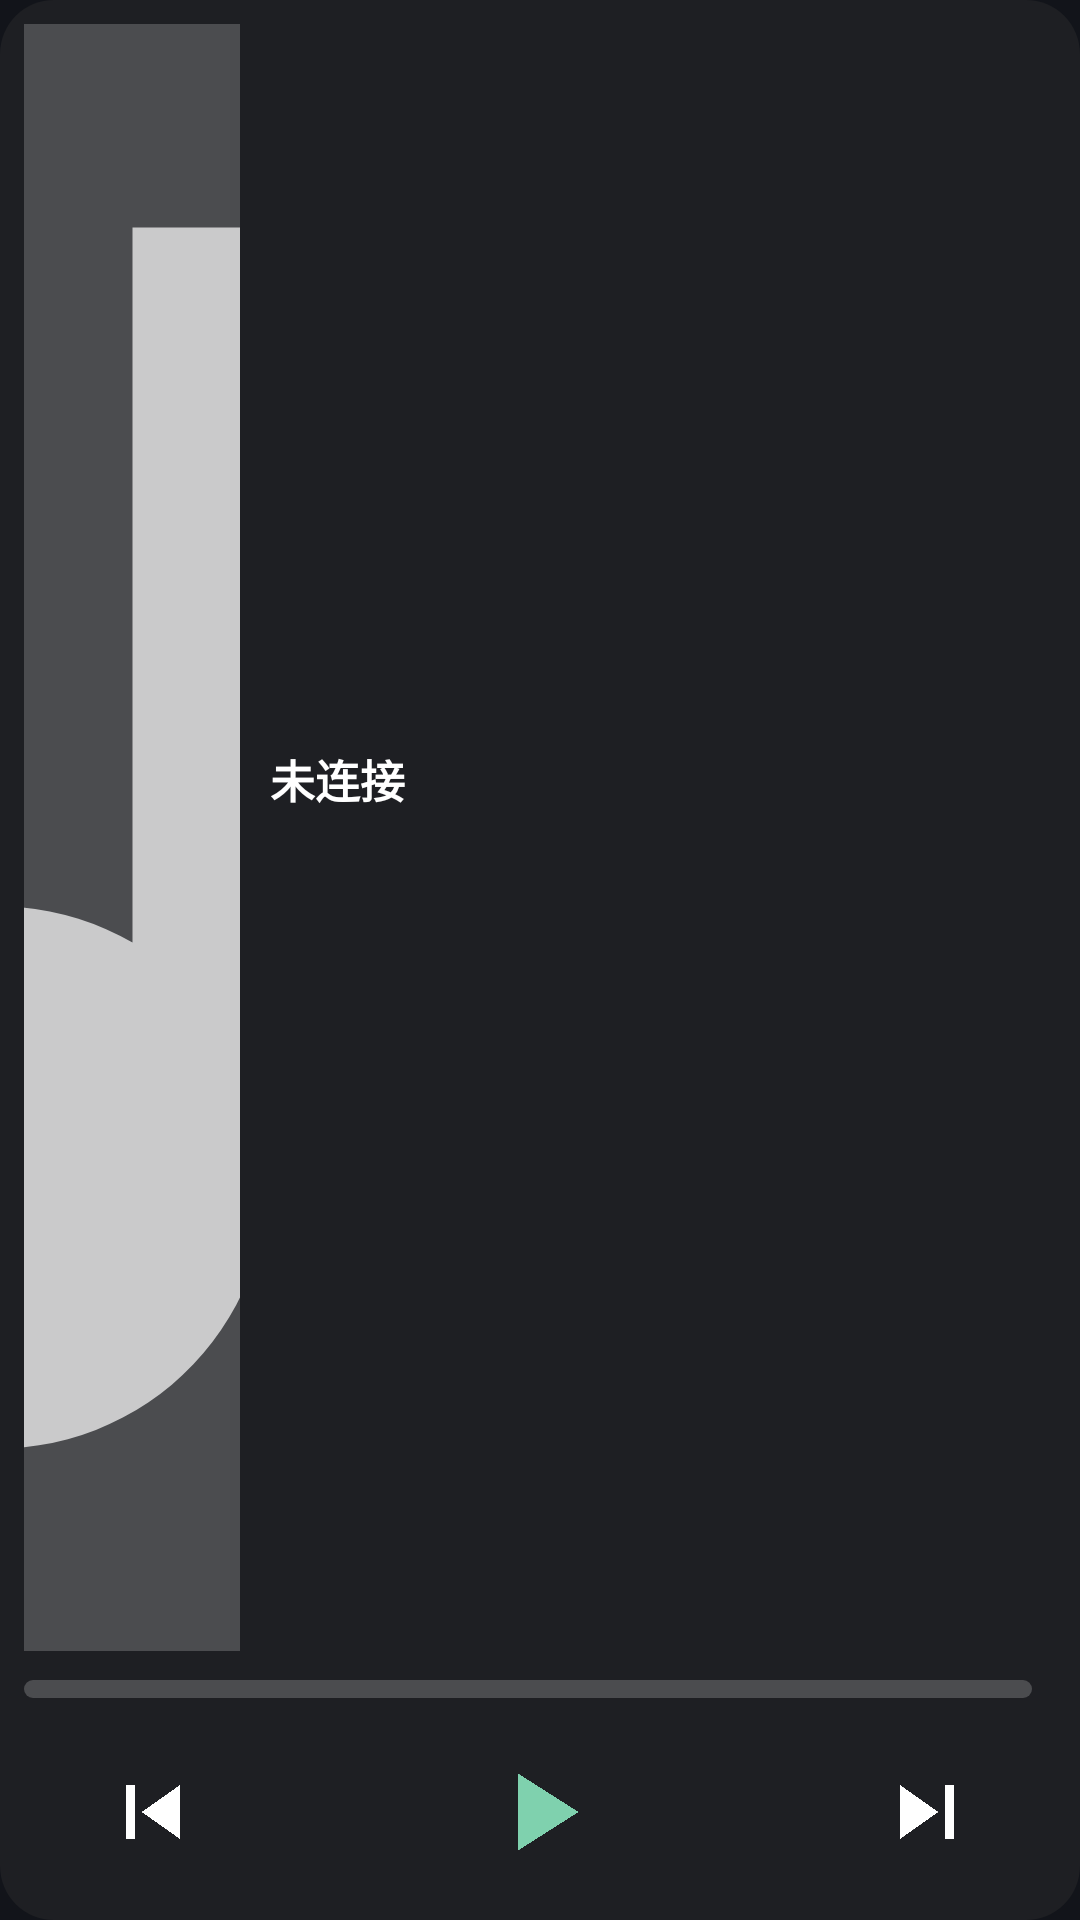

Locate icon controls on the screen. Image size 1080×1920, boxes as (x1, y1, x2, y2).
上一首: (126, 1785, 180, 1839)
下一首: (900, 1785, 954, 1839)
播放或暂停: (518, 1774, 578, 1850)
